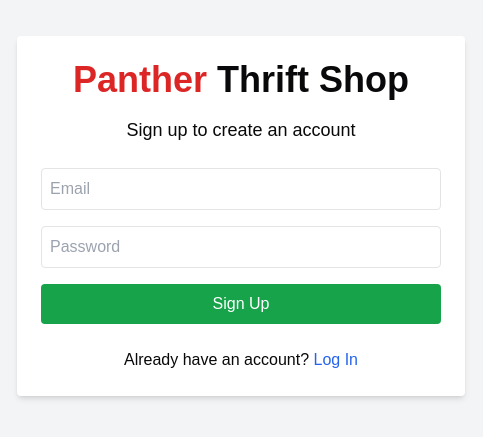
Test case: SignUp Component › handles general sign-up error
// Simulate user input
In the field with placeholder "Email": (241, 189) [41,168,441,210], type "test@hanover.edu"
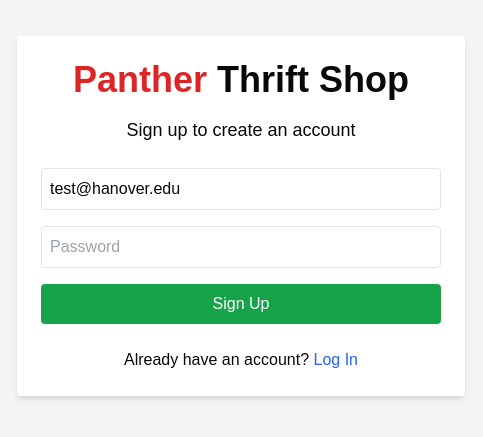
In the password field with placeholder "Password": (241, 247) [41,226,441,268], type "password123"
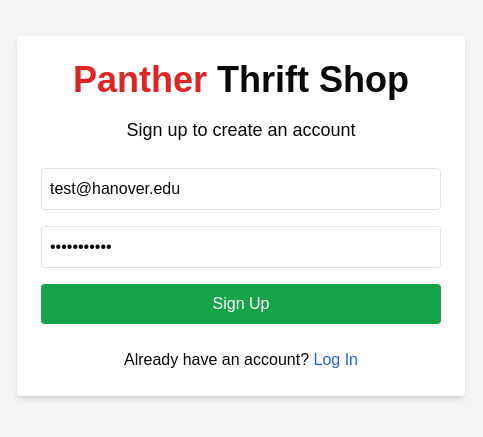
Click the button "Sign Up": (241, 304) [41,284,441,324]
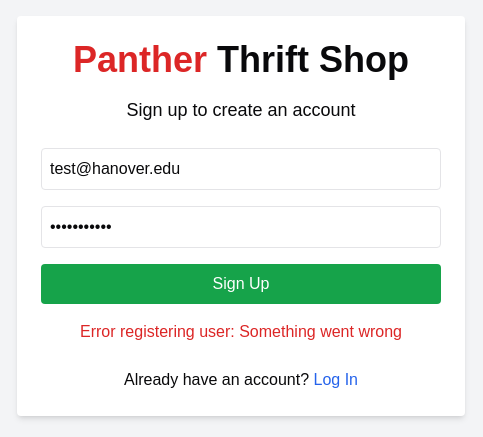
Expected: the text "Error registering user: Something went wrong" is shown, [80,323,402,340]
